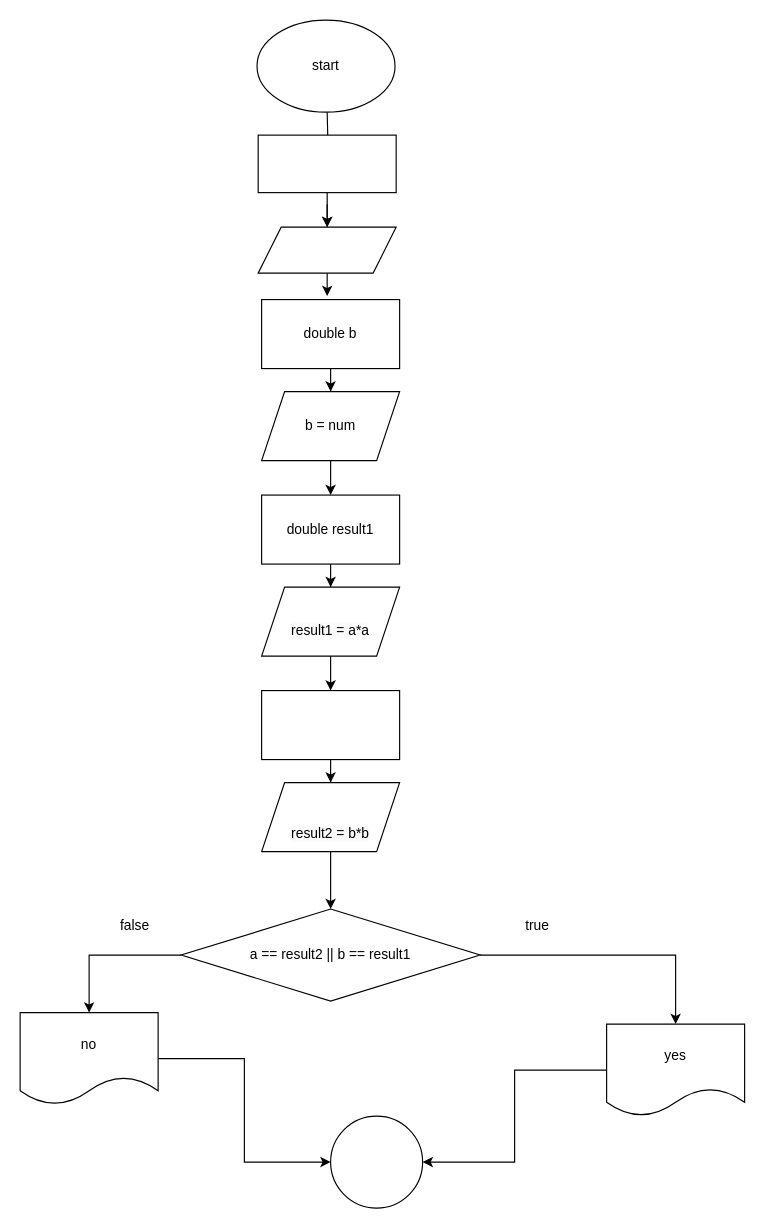
Some shapes in this 765 by 1228 pixel diagram are drawn without their labels. The shapes that lost their labels are listed below. From the top down, each one's centre as x and y in pixels, then its label:
the point at 326,163: double a
the point at 326,249: a=num
the point at 330,724: double result2
the point at 376,1161: stop
